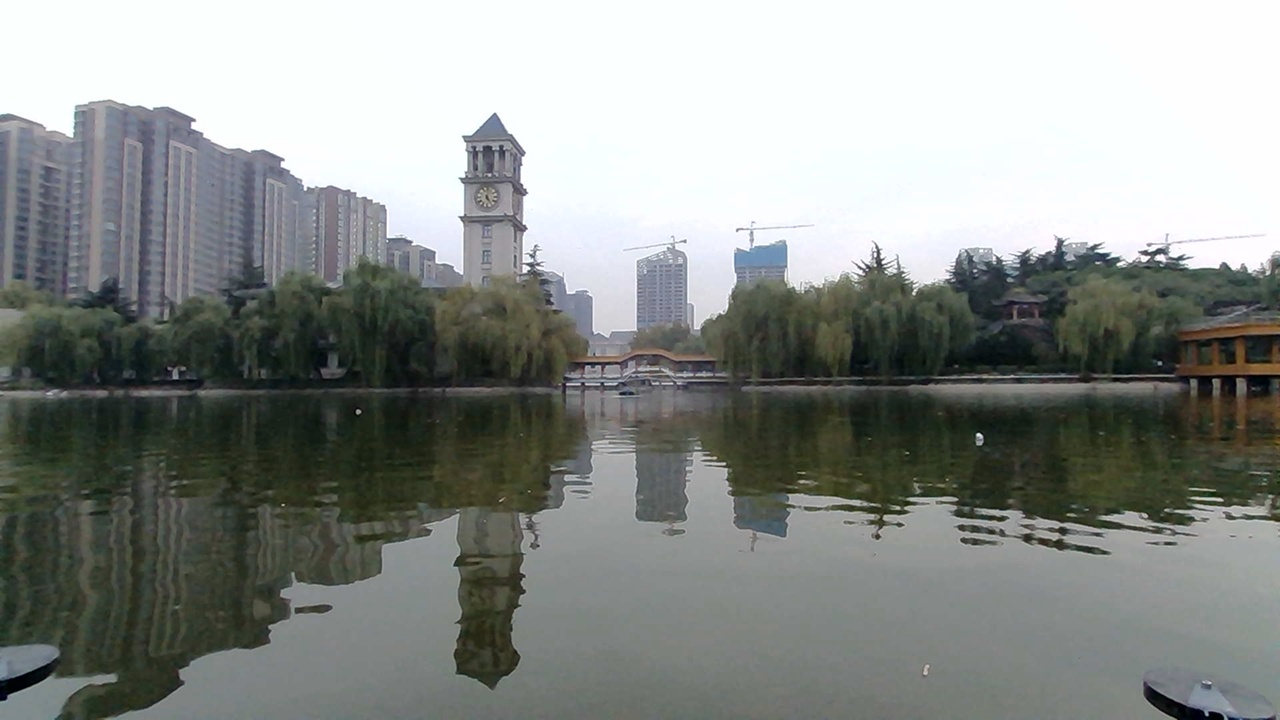bottle: (963, 415, 994, 444)
